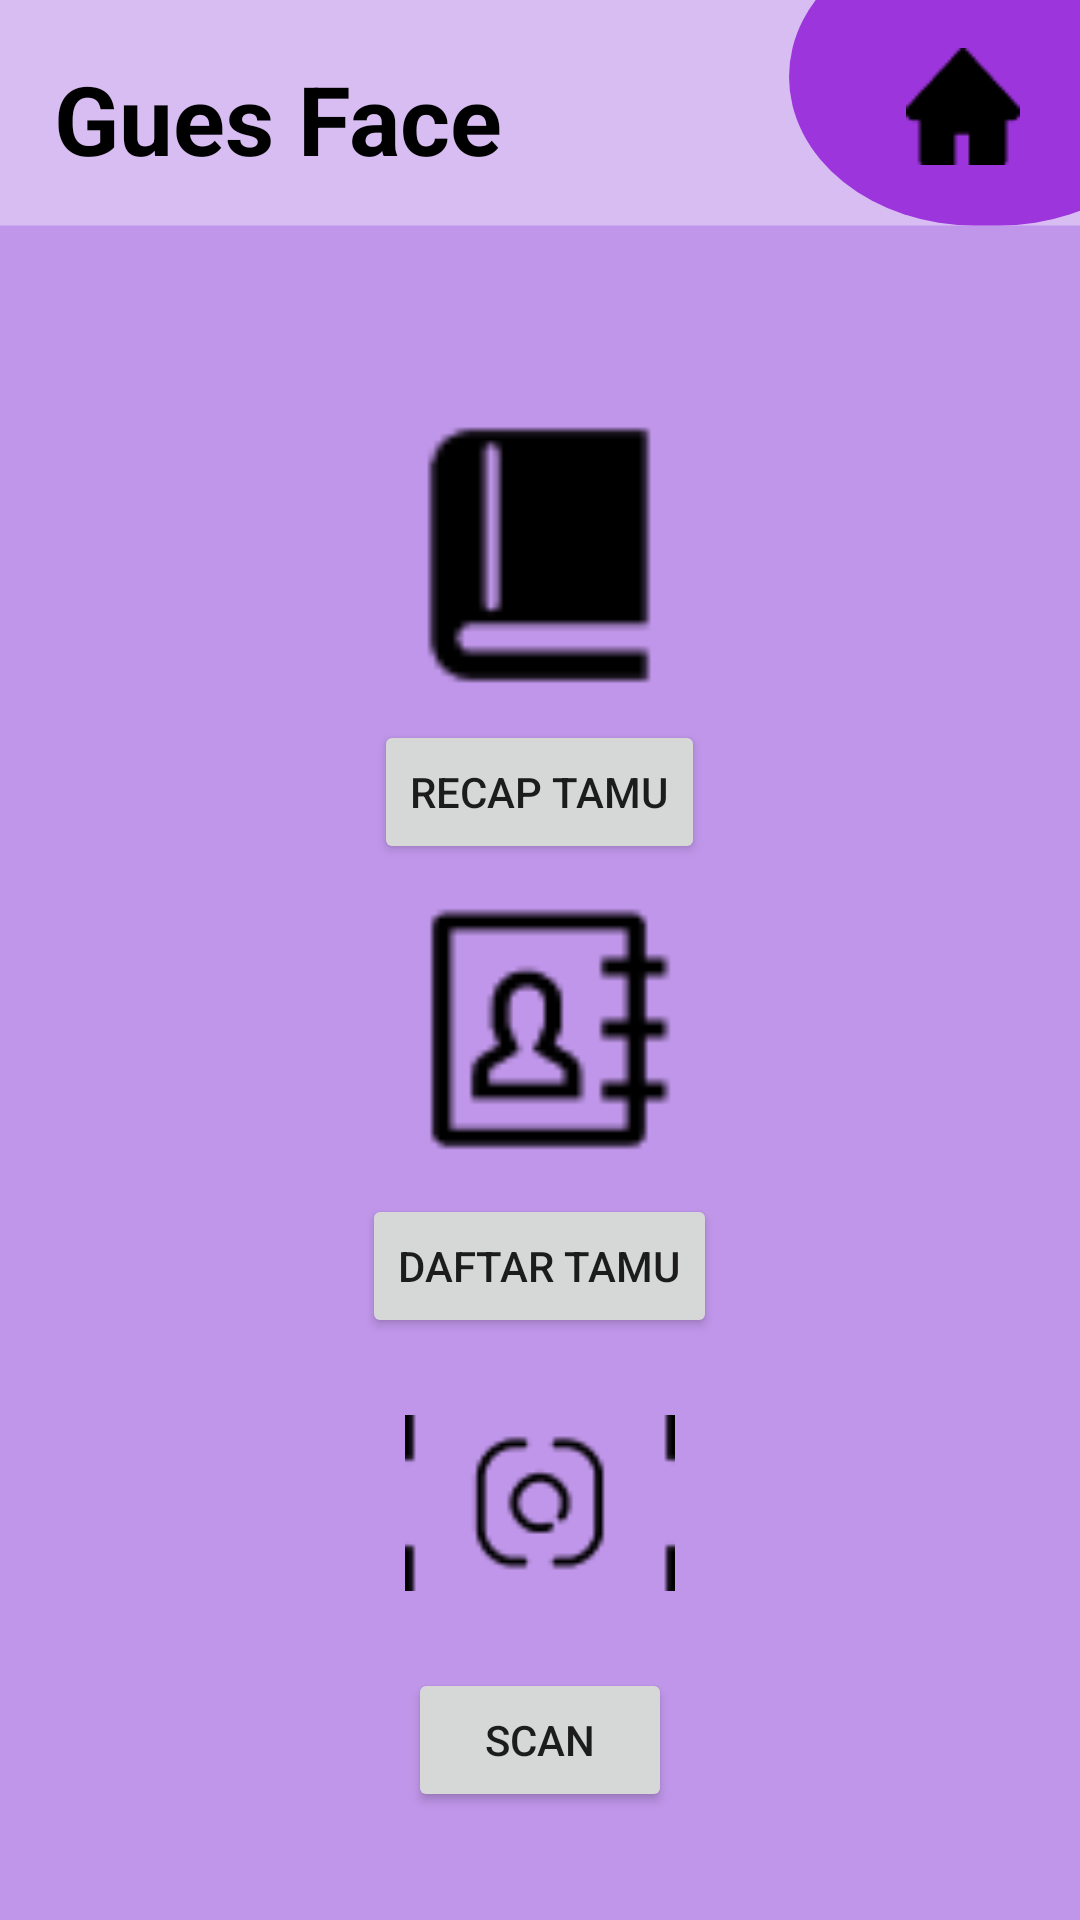

Locate icon controls on the screen. Image size 1080 x 1920, boxes as (x1, y1, x2, y2).
home: (906, 48, 1020, 165)
